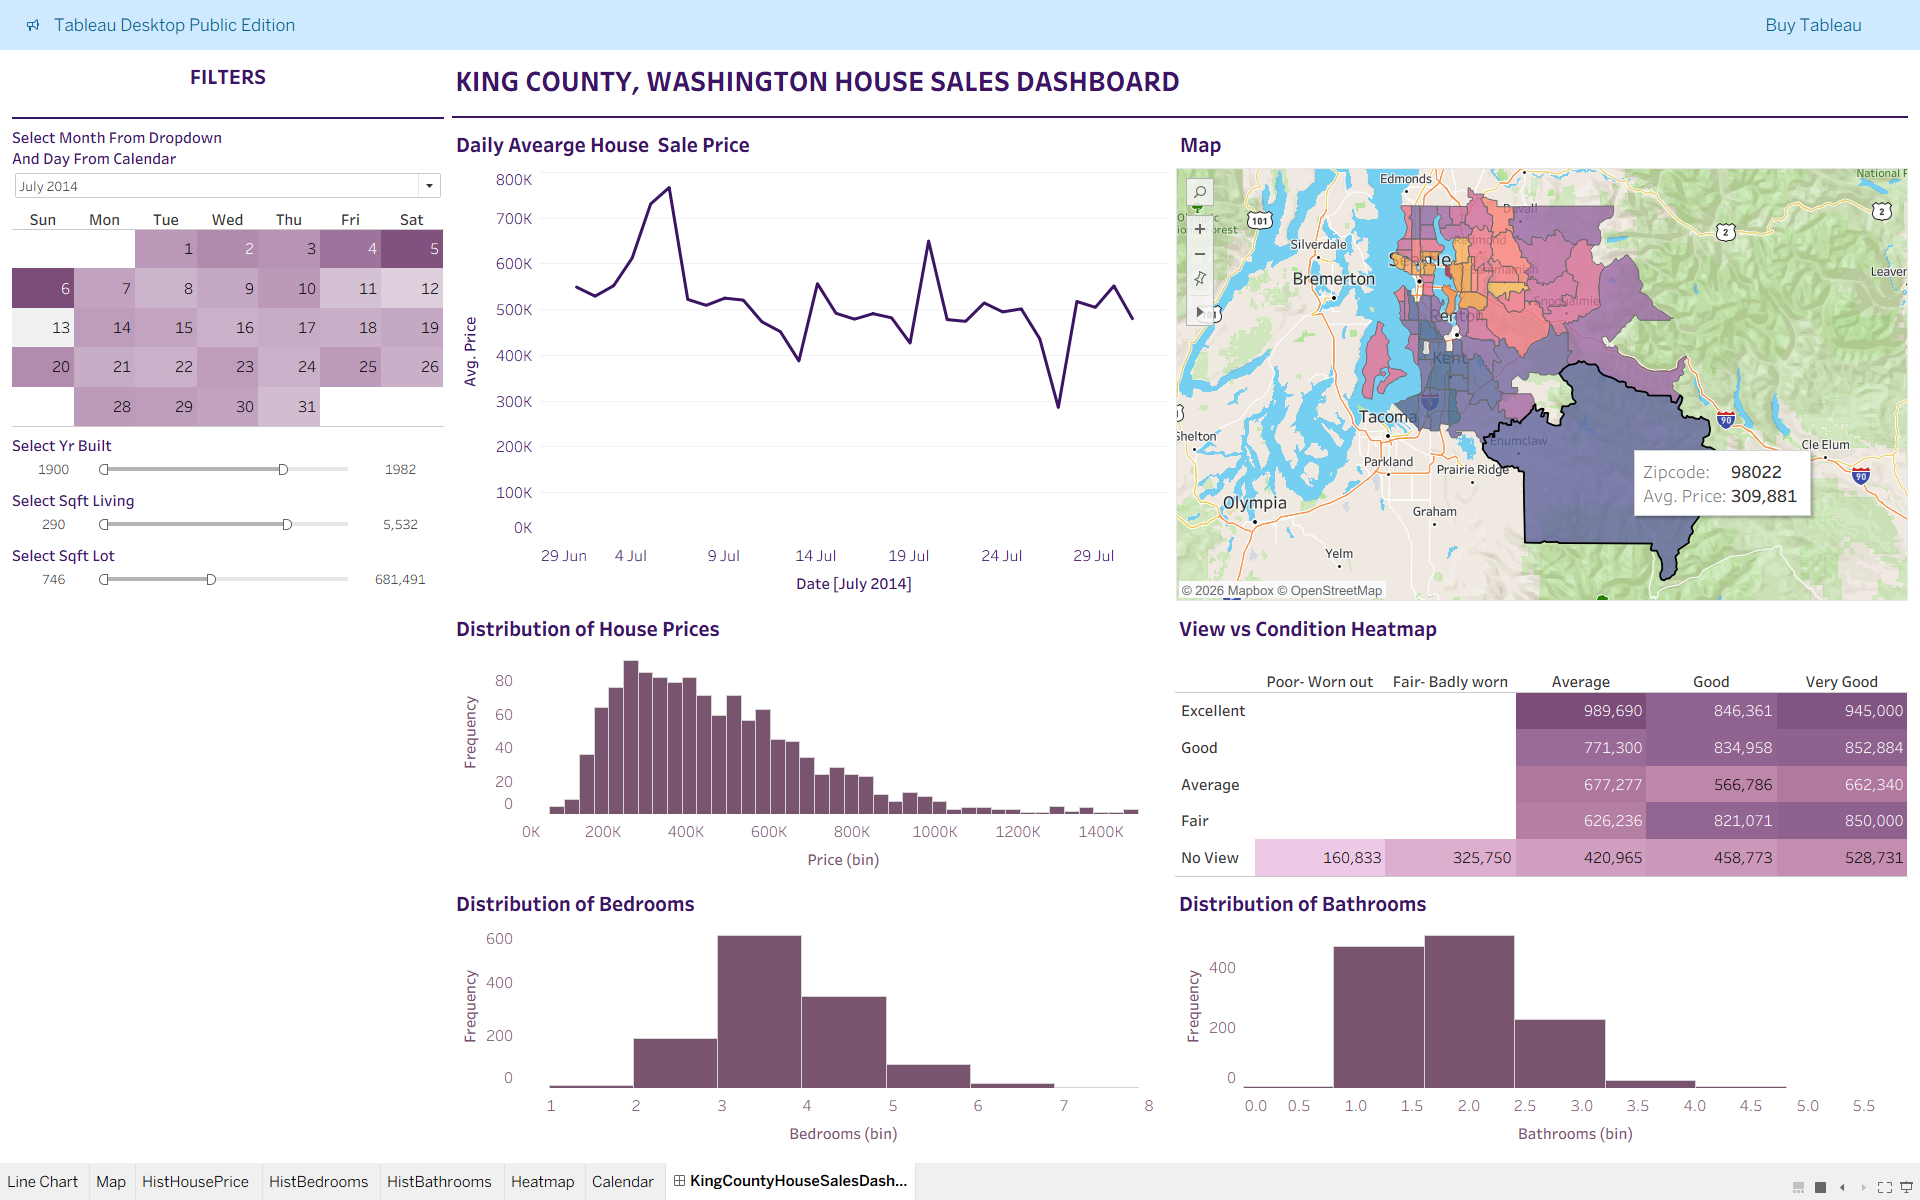

What the dashboard file says about the page in this screenshot:
{"tool":"tableau","page":{"name":"KingCountyHouseSalesDashboard","canvas":[1000,1000],"units":"permille","ordinal":0},"visuals":[{"type":"text","box":[4.8,8.7,228.7,38]},{"type":"text","box":[233.6,8.7,761.6,48.8]},{"type":"blank","box":[233.6,57.5,761.6,10.9]},{"type":"blank","box":[4.8,57.6,228.7,10.9]},{"type":"filter","title":"Calendar","param":"[federated.15cl23k0on216i1fiawh91s3xi3e].[my:date:ok]","box":[4.8,68.4,228.7,89]},{"type":"worksheet","title":"Line Chart","mark":"Automatic","rows":["price"],"cols":["date"],"box":[233.6,68.4,376.3,431.1]},{"type":"worksheet","title":"Map","mark":"Automatic","box":[609.8,68.4,385.3,431.1]},{"type":"worksheet","title":"Calendar","mark":"Square","rows":["date"],"cols":["date"],"box":[4.8,157.5,228.7,245.4]},{"type":"filter","title":"Calendar","param":"[federated.15cl23k0on216i1fiawh91s3xi3e].[none:yr_built:qk]","box":[4.8,402.8,228.7,59.7]},{"type":"filter","title":"Calendar","param":"[federated.15cl23k0on216i1fiawh91s3xi3e].[none:sqft_living:qk]","box":[4.8,462.6,228.7,59.7]},{"type":"worksheet","title":"HistHousePrice","mark":"Automatic","rows":["price"],"cols":["Price (bin)"],"box":[233.6,499.5,376,246.2]},{"type":"worksheet","title":"Heatmap","mark":"Square","rows":["view"],"cols":["condition"],"box":[609.5,499.5,385.6,246.2]},{"type":"filter","title":"Calendar","param":"[federated.15cl23k0on216i1fiawh91s3xi3e].[none:sqft_lot:qk]","box":[4.8,522.3,228.7,59.7]},{"type":"worksheet","title":"HistBedrooms","mark":"Automatic","rows":["bedrooms"],"cols":["Bedrooms (bin)"],"box":[233.6,745.7,376,245.7]},{"type":"worksheet","title":"HistBathrooms","mark":"Automatic","rows":["bathrooms"],"cols":["Bathrooms (bin)"],"box":[609.5,745.7,385.6,245.7]}]}

Visuals, with their boxes on the dashboard's canvas, which has no fixed pixel size, in thousandths of its width and height (x1, y1, x2, y2). These are canvas units, not pixel positions in the 1920x1200 screenshot, which may show the page scaled, cropped or inside an application window:
text: {"left": 5, "top": 9, "right": 234, "bottom": 47}
text: {"left": 234, "top": 9, "right": 995, "bottom": 58}
blank: {"left": 234, "top": 58, "right": 995, "bottom": 68}
blank: {"left": 5, "top": 58, "right": 234, "bottom": 68}
"Calendar" filter: {"left": 5, "top": 68, "right": 234, "bottom": 157}
"Line Chart" worksheet: {"left": 234, "top": 68, "right": 610, "bottom": 500}
"Map" worksheet: {"left": 610, "top": 68, "right": 995, "bottom": 500}
"Calendar" worksheet (Square marks): {"left": 5, "top": 158, "right": 234, "bottom": 403}
"Calendar" filter: {"left": 5, "top": 403, "right": 234, "bottom": 462}
"Calendar" filter: {"left": 5, "top": 463, "right": 234, "bottom": 522}
"HistHousePrice" worksheet: {"left": 234, "top": 500, "right": 610, "bottom": 746}
"Heatmap" worksheet (Square marks): {"left": 610, "top": 500, "right": 995, "bottom": 746}
"Calendar" filter: {"left": 5, "top": 522, "right": 234, "bottom": 582}
"HistBedrooms" worksheet: {"left": 234, "top": 746, "right": 610, "bottom": 991}
"HistBathrooms" worksheet: {"left": 610, "top": 746, "right": 995, "bottom": 991}
